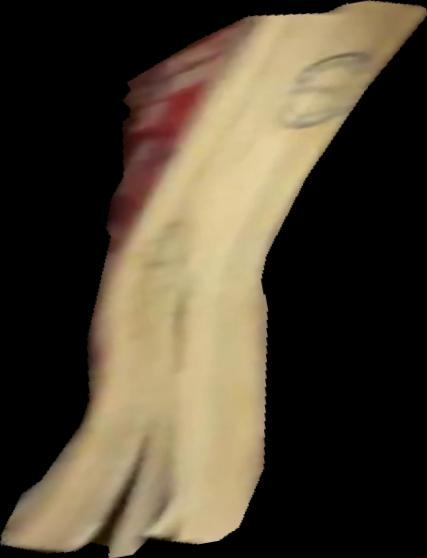backward: (1, 1, 427, 558)
